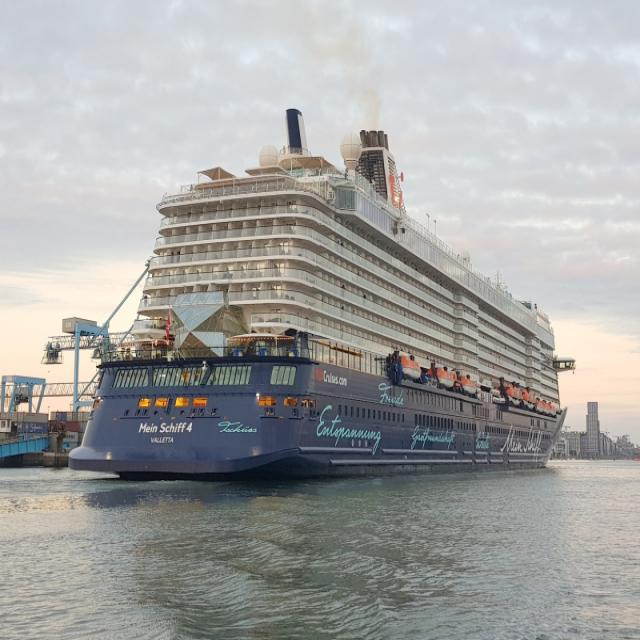cruises: (66, 103, 579, 490)
